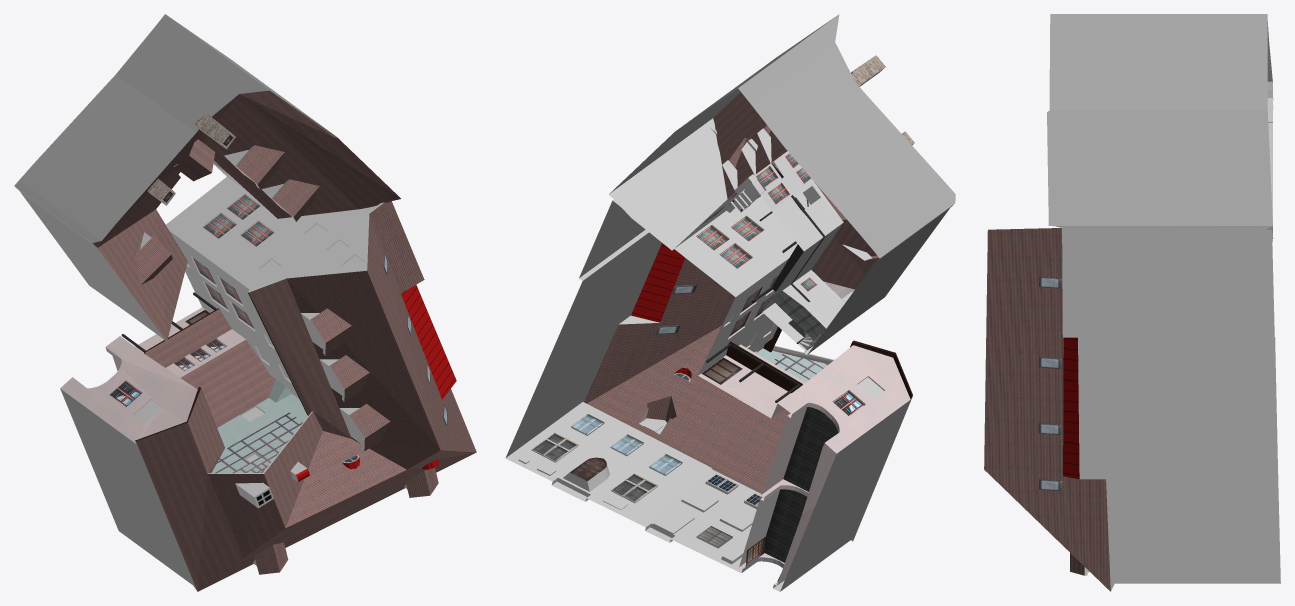
The model's file is Pikk_7.obj.
3 renders of one model, left to right at view 1: azimuth 30°, elevation 25°; view 2: azimuth 150°, elevation 25°; view 3: azimuth 270°, elevation 25°, orthographic. The views are drawn at different scales.
Parts seen in each view (by area): view 1: Pikk_7; view 2: Pikk_7; view 3: Pikk_7.
Boxes of the visible parts, x1=… form: Pikk_7: x1=14, y1=14, x2=476, y2=591; Pikk_7: x1=505, y1=14, x2=955, y2=591; Pikk_7: x1=984, y1=14, x2=1280, y2=591.
Size of the model in its own units: 29.53 by 37.57 by 18.98.
